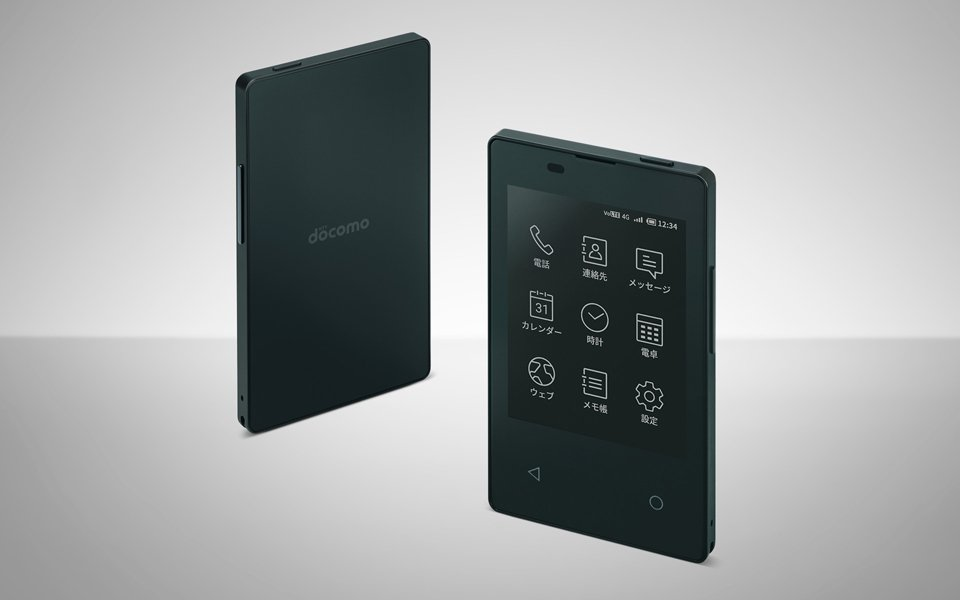Phone: (484, 127, 719, 566), (231, 31, 433, 437)
